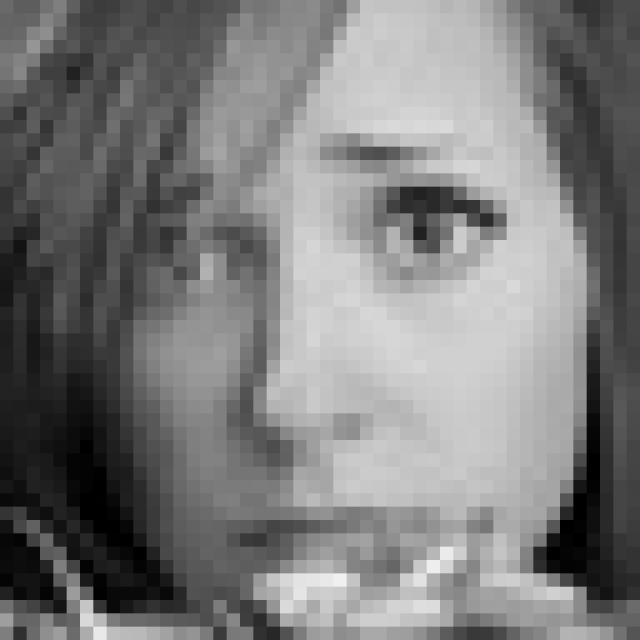fear: (135, 128, 522, 604)
